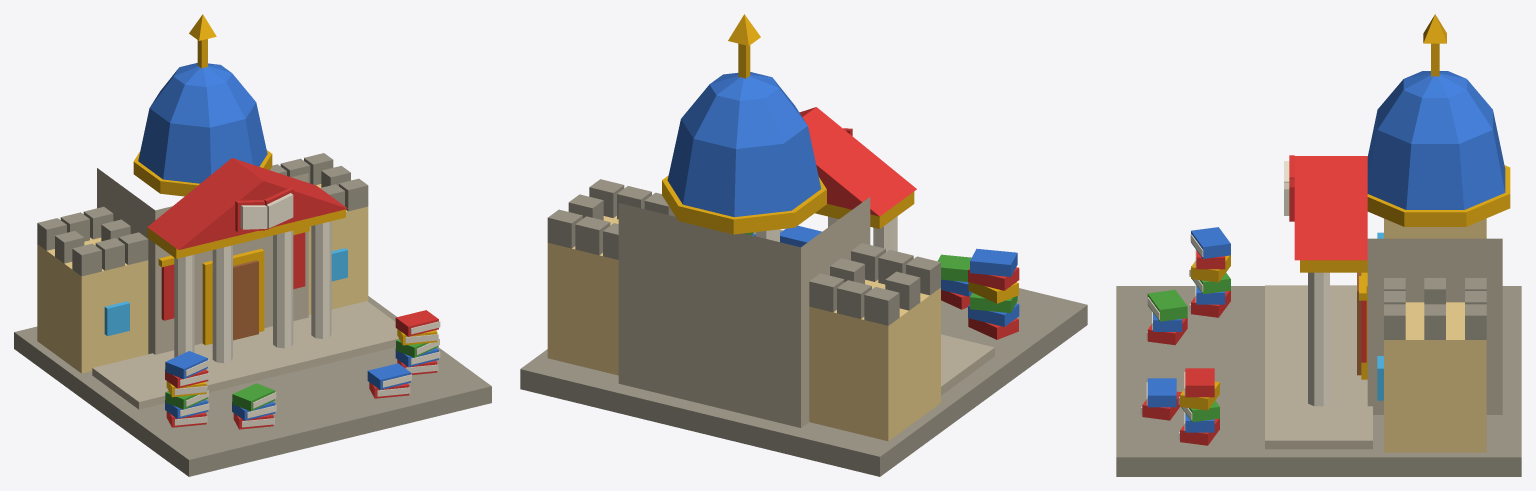
Rendered from library_t3_v1.glb.
The picture shows the model from 3 angles, left to right: view 1: azimuth 30°, elevation 25°; view 2: azimuth 150°, elevation 25°; view 3: azimuth 270°, elevation 25°; orthographic projection. The views are drawn at different scales.
Visible parts, largest first — view 1: library_t3_v1; view 2: library_t3_v1; view 3: library_t3_v1.
Boxes of the visible parts, bbox=[...] form: library_t3_v1: bbox=[14, 14, 491, 476]; library_t3_v1: bbox=[520, 14, 1087, 476]; library_t3_v1: bbox=[1116, 14, 1521, 476].
Bounding box in the file's own units: 0.75 × 0.77 × 0.75.
Materials: 1 (1 with a texture image).
